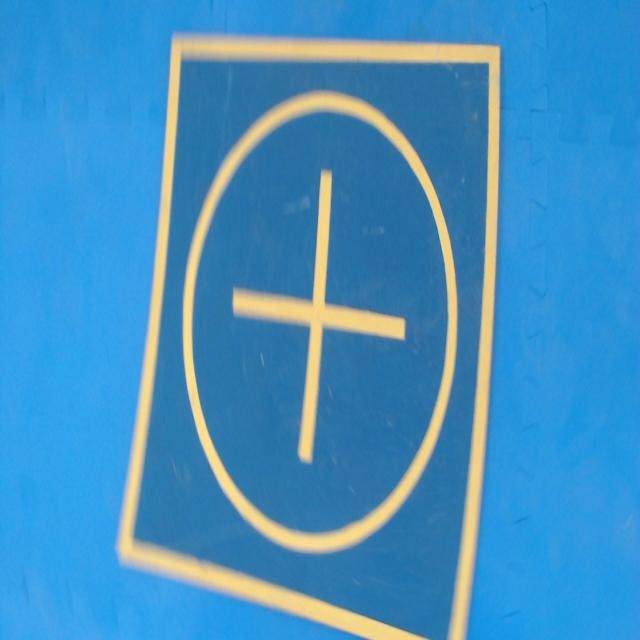base_pouso: (115, 33, 502, 639)
